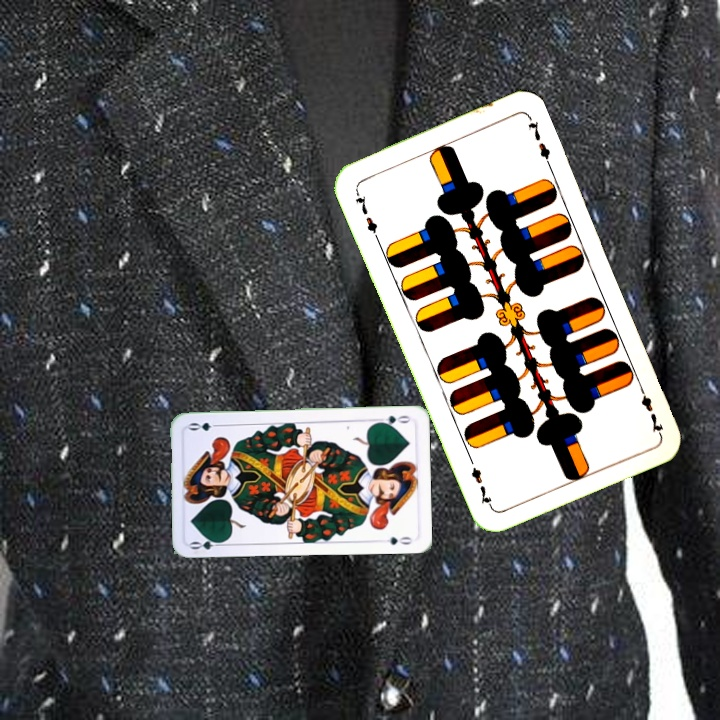E7: (635, 380, 666, 437), (351, 185, 381, 242)
GO: (187, 534, 227, 552), (373, 411, 413, 428)
